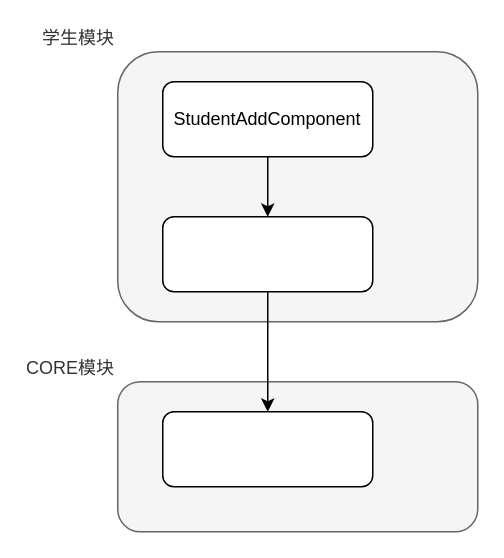
Some shapes in this 504 by 558 pixel diagram are drawn without their labels. The box of each missing label's shape, as (x1, y1, x2, y2) in pixels:
KlassSelectCompont: (161, 215, 373, 292)
SelectComponent: (161, 410, 373, 487)
